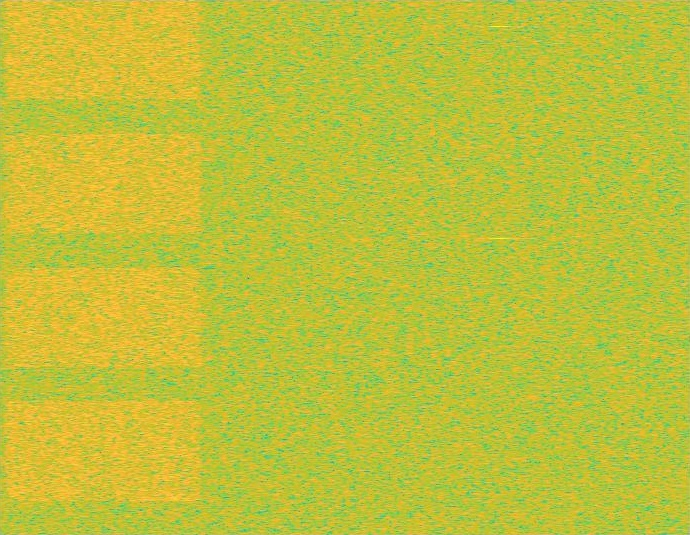5G: (0, 0, 207, 534)
Radar: (493, 0, 506, 534)
